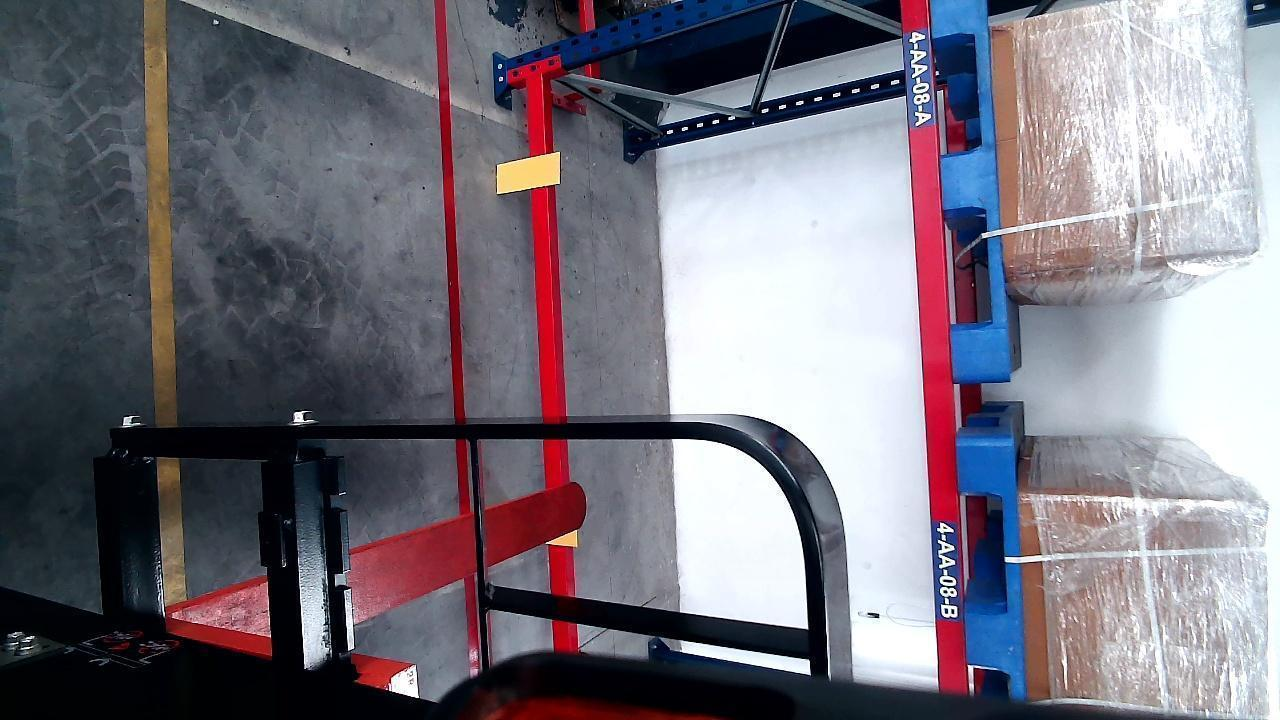red_line: (438, 1, 480, 673)
yellow_line: (146, 1, 184, 602)
